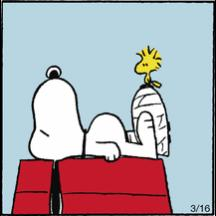snoopy: (26, 64, 170, 216)
